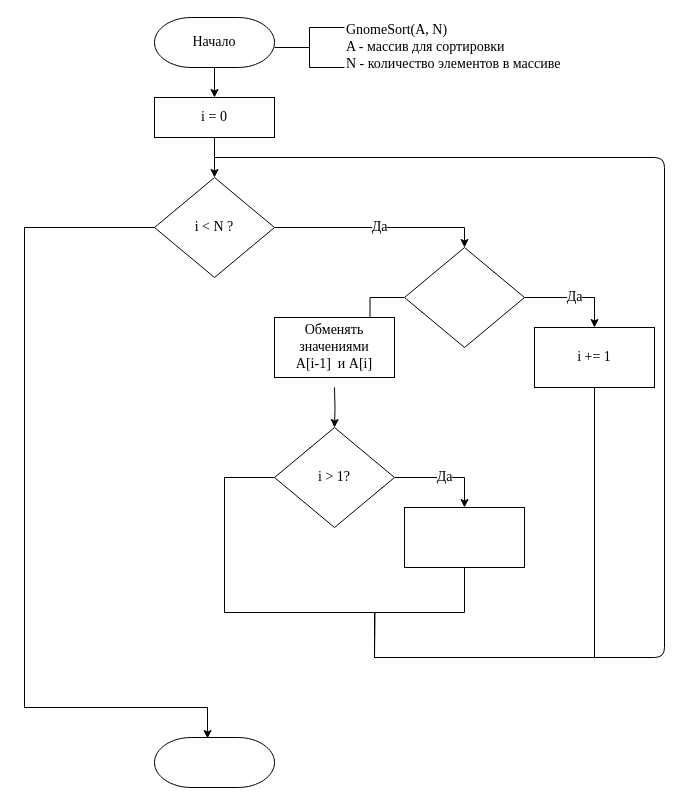
Some shapes in this 683 by 805 pixel diagram are drawn without their labels. The shapes that lost their labels are listed below. From the top down, each one's centre as x and y in pixels, then its label:
point 464,297: A[i-1] <= A[i]?
point 464,537: i -= 1
point 214,762: Конец
